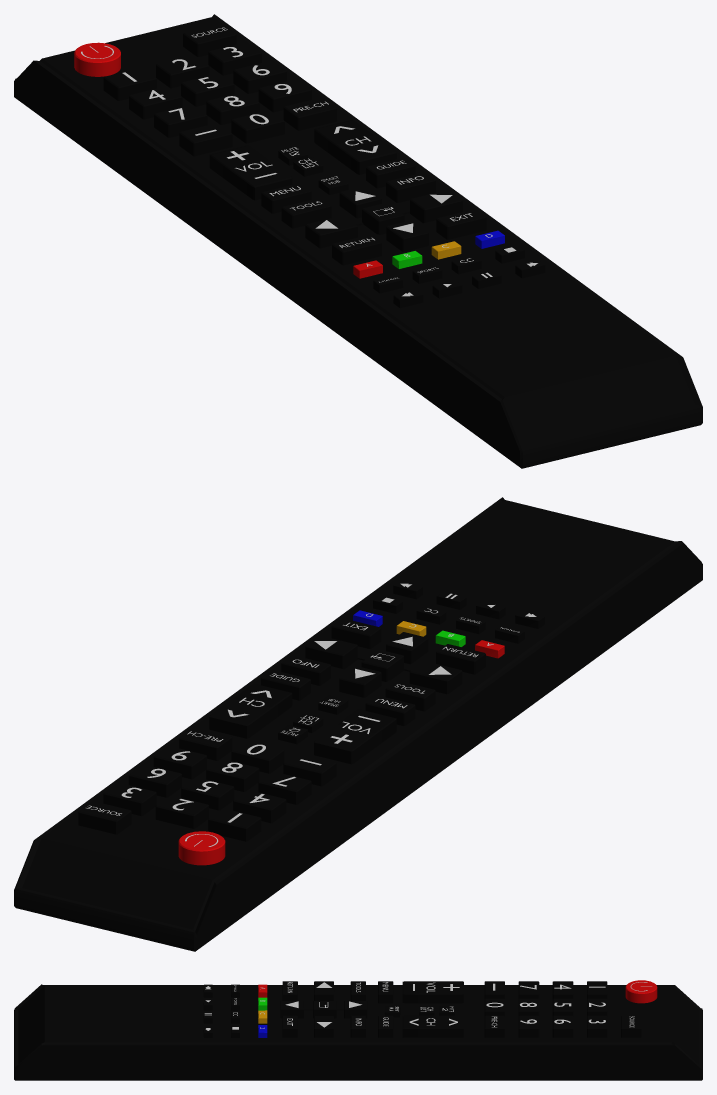
The model's file is TV Controller.obj.
3 renders of one model, top to bottom at view 1: azimuth 30°, elevation 25°; view 2: azimuth 150°, elevation 25°; view 3: azimuth 270°, elevation 25°, orthographic. The views are drawn at different scales.
Visible parts, largest first — view 1: TV_Controller_Controller_Tv_ControllerBody, TV_Controller_Controller_Tv_Buttons, TV_Controller_Controller_Tv_DownControllerBody, TV_Controller_Controller_Tv_WhiteText, TV_Controller_Controller_Tv_Power; view 2: TV_Controller_Controller_Tv_ControllerBody, TV_Controller_Controller_Tv_Buttons, TV_Controller_Controller_Tv_DownControllerBody, TV_Controller_Controller_Tv_WhiteText, TV_Controller_Controller_Tv_Power; view 3: TV_Controller_Controller_Tv_DownControllerBody, TV_Controller_Controller_Tv_ControllerBody, TV_Controller_Controller_Tv_Buttons, TV_Controller_Controller_Tv_WhiteText, TV_Controller_Controller_Tv_Power.
Boxes of the visible parts, box(x1,y1,x2,y2) form: TV_Controller_Controller_Tv_ControllerBody: box(42, 17, 694, 446); TV_Controller_Controller_Tv_Buttons: box(103, 23, 545, 307); TV_Controller_Controller_Tv_DownControllerBody: box(14, 14, 702, 468); TV_Controller_Controller_Tv_WhiteText: box(81, 27, 537, 296); TV_Controller_Controller_Tv_Power: box(74, 42, 120, 76); TV_Controller_Controller_Tv_ControllerBody: box(22, 500, 674, 929); TV_Controller_Controller_Tv_Buttons: box(78, 581, 544, 841); TV_Controller_Controller_Tv_DownControllerBody: box(14, 497, 702, 951); TV_Controller_Controller_Tv_WhiteText: box(86, 583, 536, 846); TV_Controller_Controller_Tv_Power: box(178, 831, 225, 865); TV_Controller_Controller_Tv_DownControllerBody: box(14, 984, 702, 1080); TV_Controller_Controller_Tv_ControllerBody: box(18, 985, 698, 1063); TV_Controller_Controller_Tv_Buttons: box(203, 981, 641, 1037); TV_Controller_Controller_Tv_WhiteText: box(204, 982, 651, 1030); TV_Controller_Controller_Tv_Power: box(625, 980, 657, 1003).
Size of the model in its own units: 2.1 by 0.7633 by 10.1.
